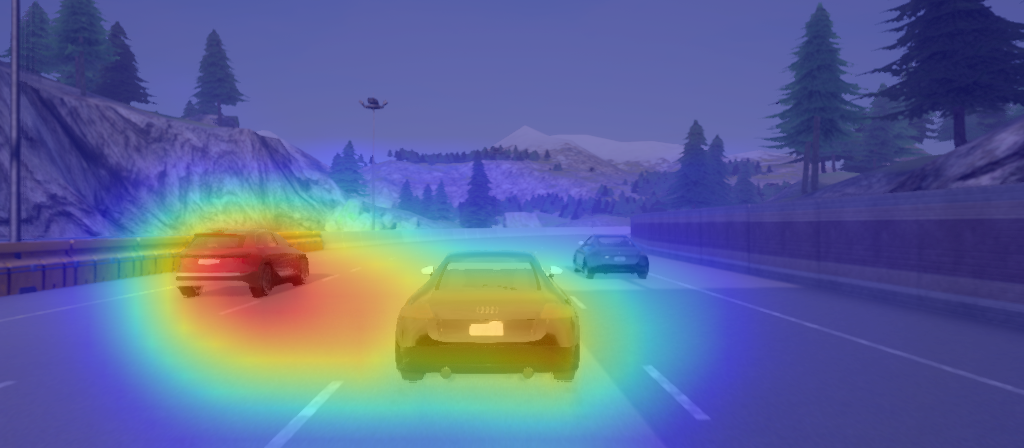Barrier: (669, 211, 1001, 261), (7, 247, 138, 275)
Car: (391, 248, 587, 387), (172, 227, 317, 304), (570, 231, 654, 282)
Lane Marker: (260, 377, 349, 448), (637, 361, 718, 427), (219, 299, 264, 322), (566, 288, 593, 314), (316, 272, 338, 286)
Light Pole: (355, 93, 391, 233), (9, 1, 23, 245)
